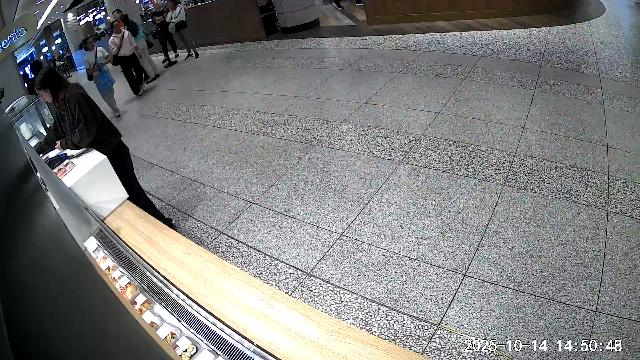sushi-box: (53, 161, 76, 180)
